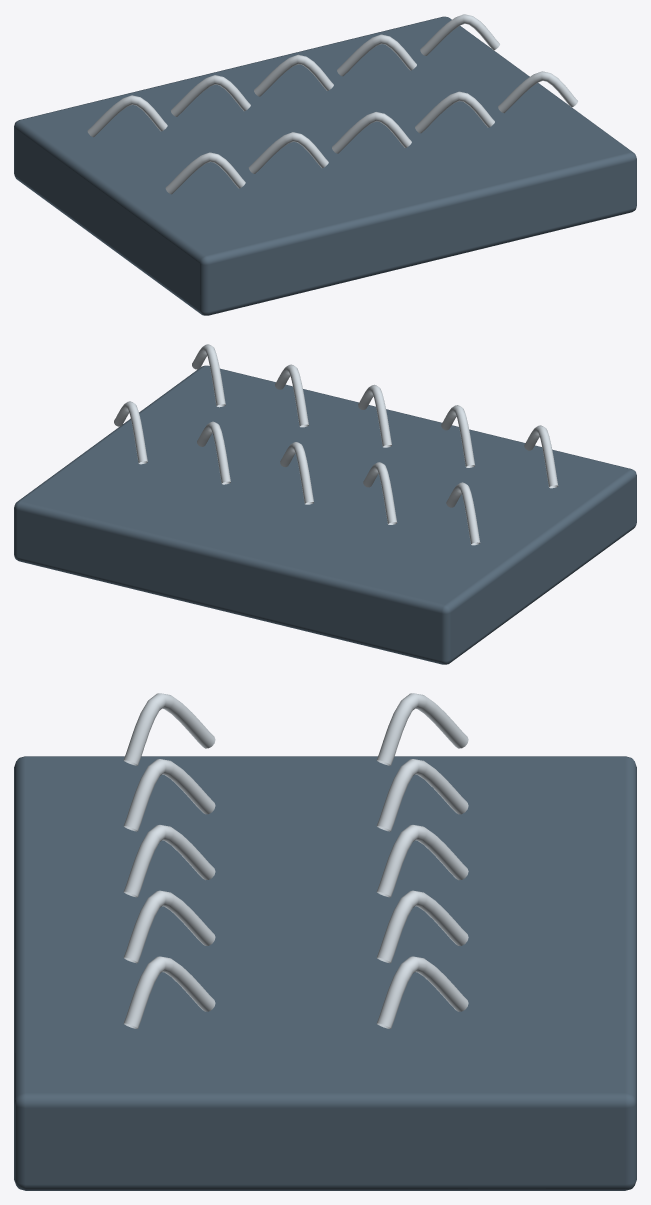
The model's file is fire-metal-swarf.glb.
The picture shows the model from 3 angles, top to bottom: view 1: azimuth 30°, elevation 25°; view 2: azimuth 150°, elevation 25°; view 3: azimuth 270°, elevation 25°; orthographic projection. The views are drawn at different scales.
Visible parts, largest first — view 1: fire-metal-swarf; view 2: fire-metal-swarf; view 3: fire-metal-swarf.
Boxes of the visible parts, x1,y1,x2,y2 form: fire-metal-swarf: [14, 14, 636, 315]; fire-metal-swarf: [14, 344, 636, 664]; fire-metal-swarf: [14, 693, 636, 1190].
Size of the model in its own units: 0.42 by 0.1114 by 0.32.
